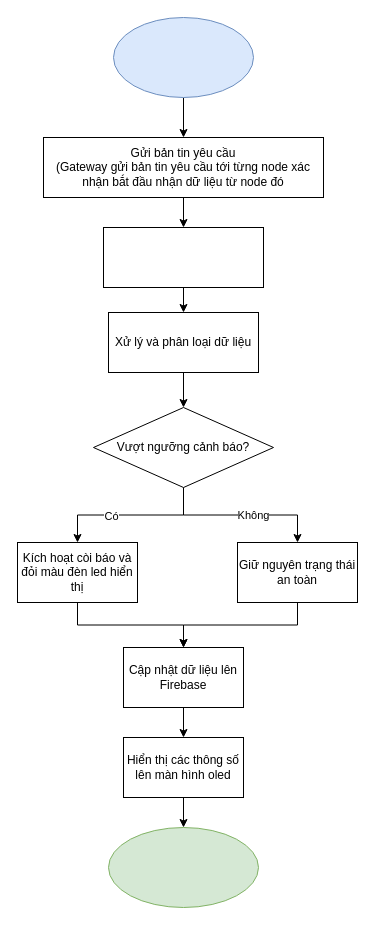
The diagram is 375 pixels wide and 925 high, and some of its shapes have lost their labels. Here are the shapes that lost their labels. From the top down, the centre of each, then its label:
At point (183, 57): "Bắt đầu".
At point (183, 257): "Thu thập dữ liệu từng node".
At point (183, 867): "Lặp lại quá trình".
